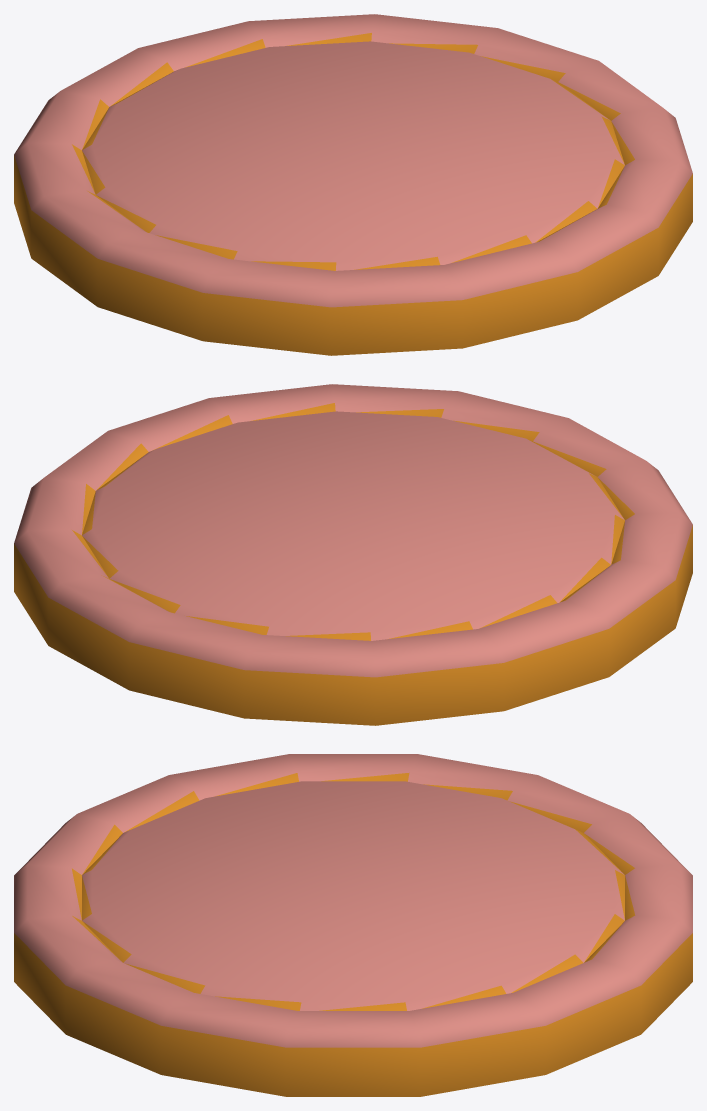
The model's file is itch_tiny_pleasant_picnic_serving_tray_round.glb.
3 views of the same model, one above another, from view 1: azimuth 30°, elevation 25°; view 2: azimuth 150°, elevation 25°; view 3: azimuth 270°, elevation 25° (orthographic).
Parts seen in each view (by area): view 1: serving_tray_round; view 2: serving_tray_round; view 3: serving_tray_round.
Boxes of the visible parts, x1=… form: serving_tray_round: x1=14, y1=14, x2=692, y2=355; serving_tray_round: x1=14, y1=384, x2=692, y2=725; serving_tray_round: x1=14, y1=754, x2=692, y2=1096.
Size of the model in its own units: 0.96 by 0.096 by 0.96.
